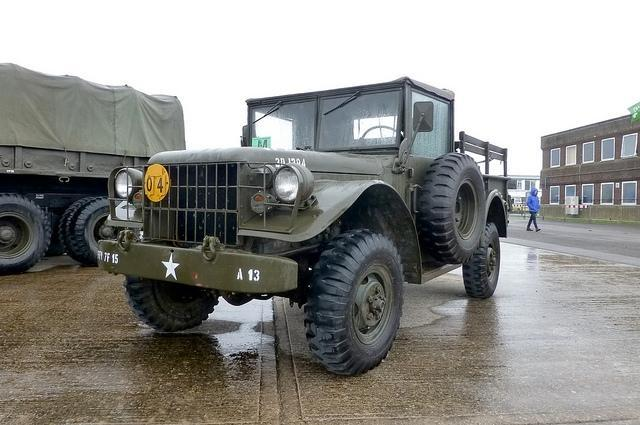truck: (103, 78, 513, 370), (0, 64, 186, 274)
